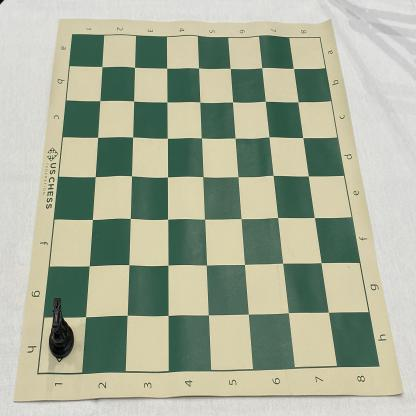black-knight: (48, 297, 74, 359)
